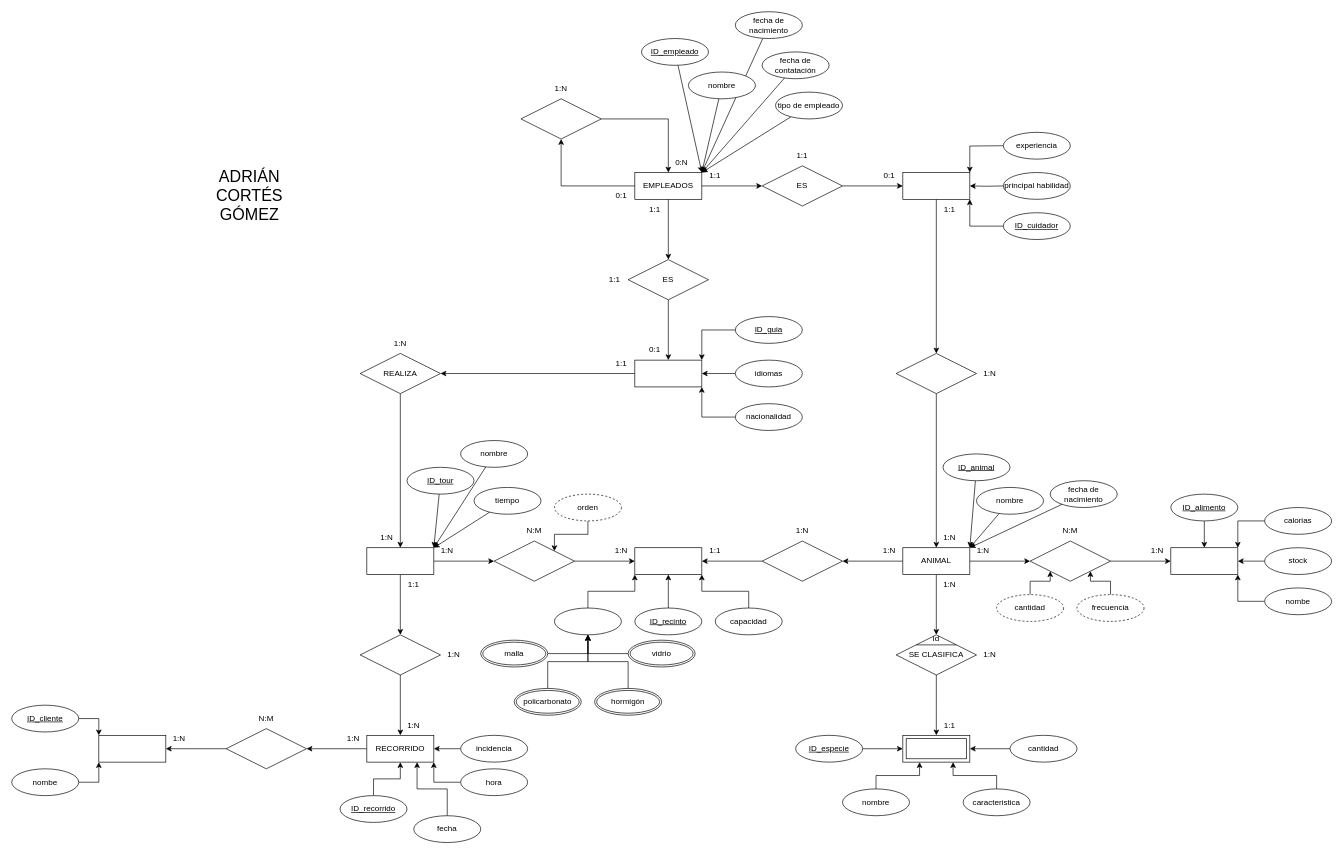
The diagram is 1343 pixels wide and 854 high, and some of its shapes have lost their labels. The shapes that lost their labels are listed below. From the top down, each one's centre as x and y in pixels, then its label:
[560,118]: ES ENCARGADO
[936,185]: CUIDADOR
[668,373]: GUIA
[936,373]: CUIDA
[400,561]: TOURS
[534,560]: VISITA
[668,561]: RECINTO
[802,560]: PERTENECE
[1070,560]: INGIERE
[1204,561]: ALIMENTO
[587,621]: material
[400,654]: INCLUYEN
[132,748]: CLIENTE
[266,748]: PARTICIPA
[936,748]: ESPECIE
